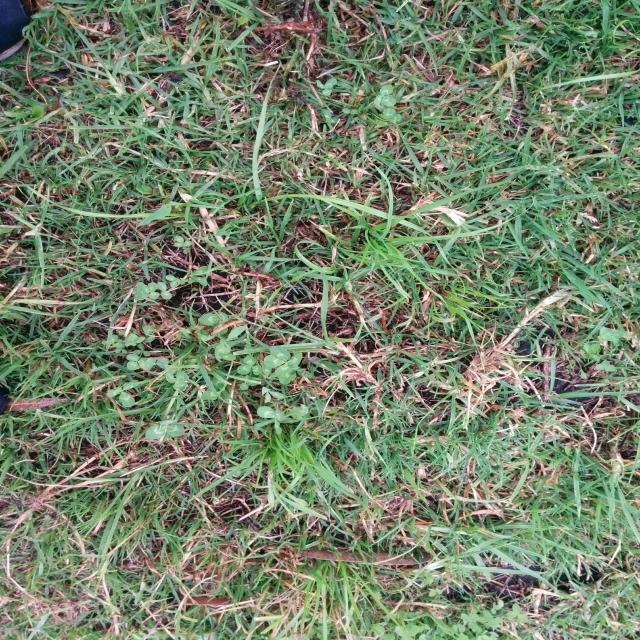Four Leaf Clover: (263, 346, 303, 375)
